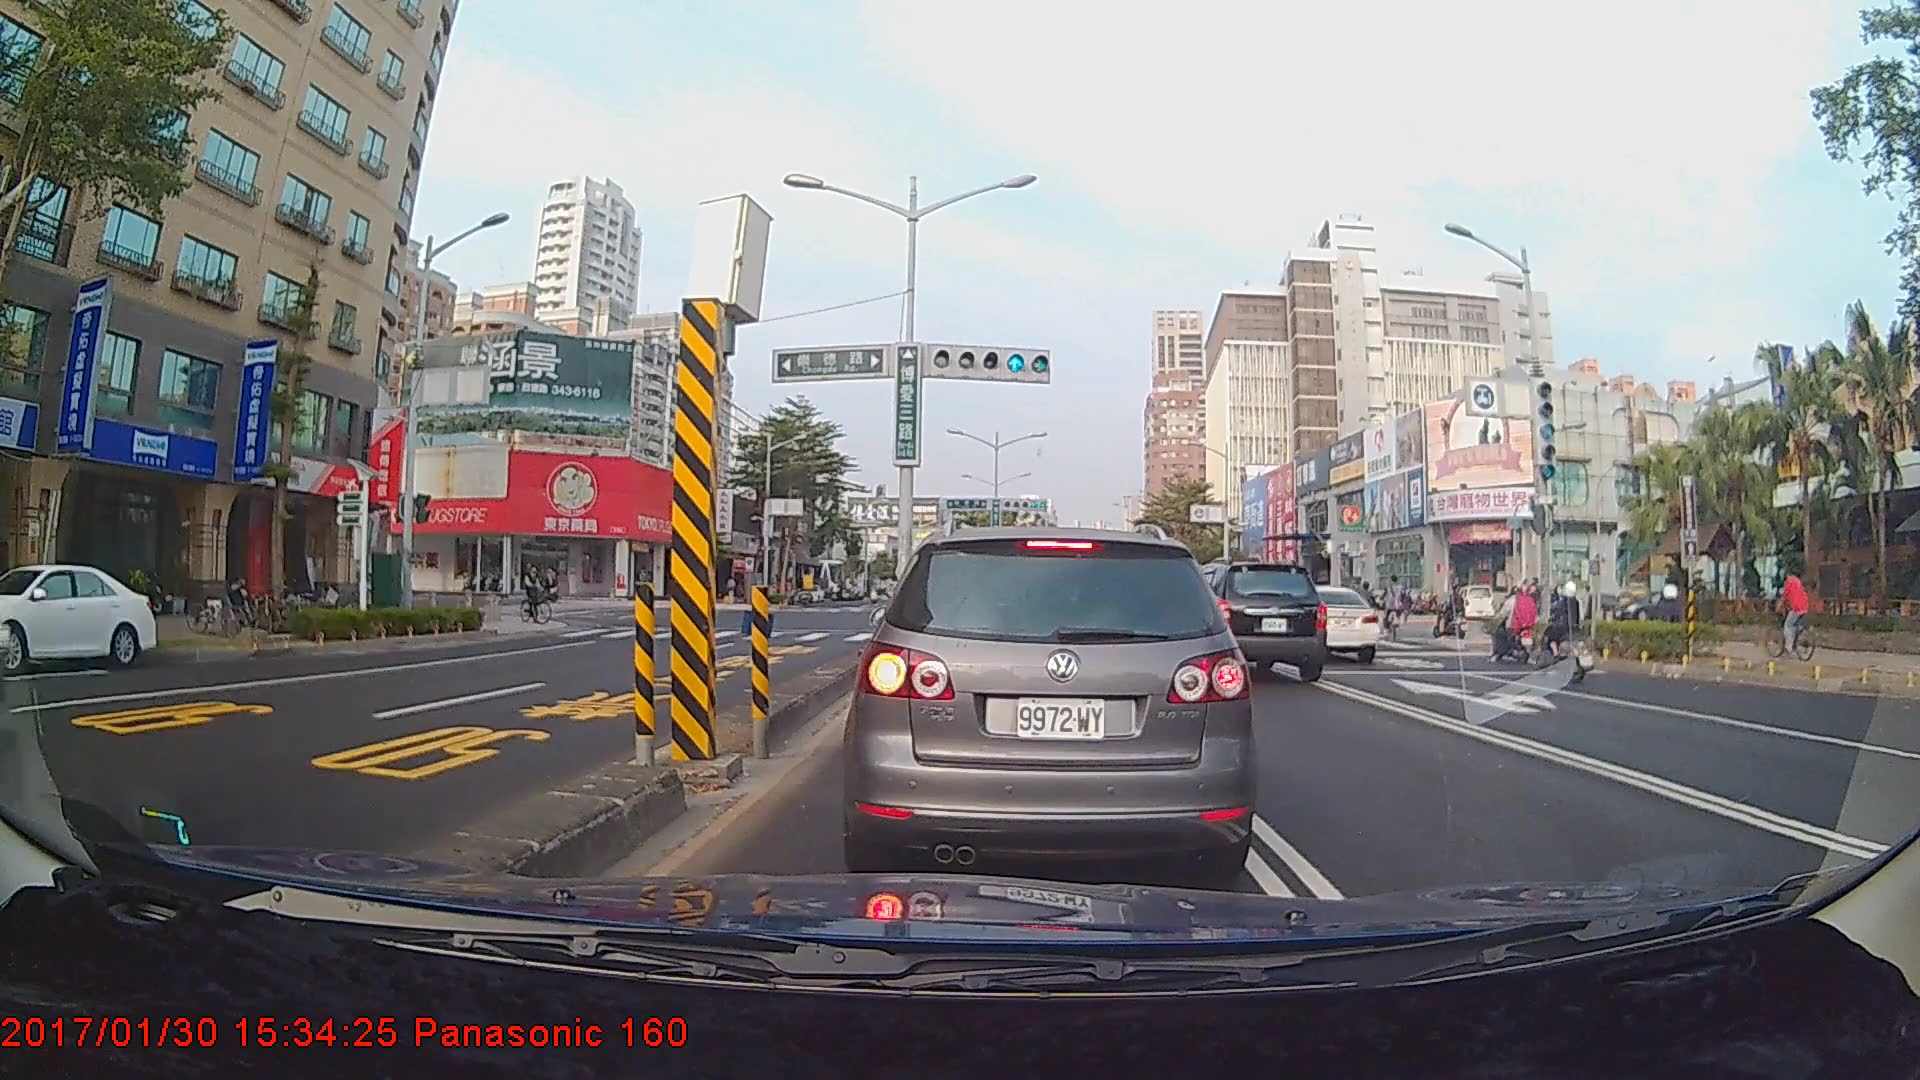rider: (1540, 578, 1597, 692), (1485, 582, 1548, 668), (1762, 566, 1814, 660), (1640, 578, 1694, 654), (518, 559, 561, 629), (1378, 570, 1408, 658), (1436, 582, 1473, 646), (520, 563, 563, 610)
vehicle: (854, 522, 1250, 877), (1154, 557, 1328, 683), (0, 561, 155, 671), (1253, 582, 1379, 663)
